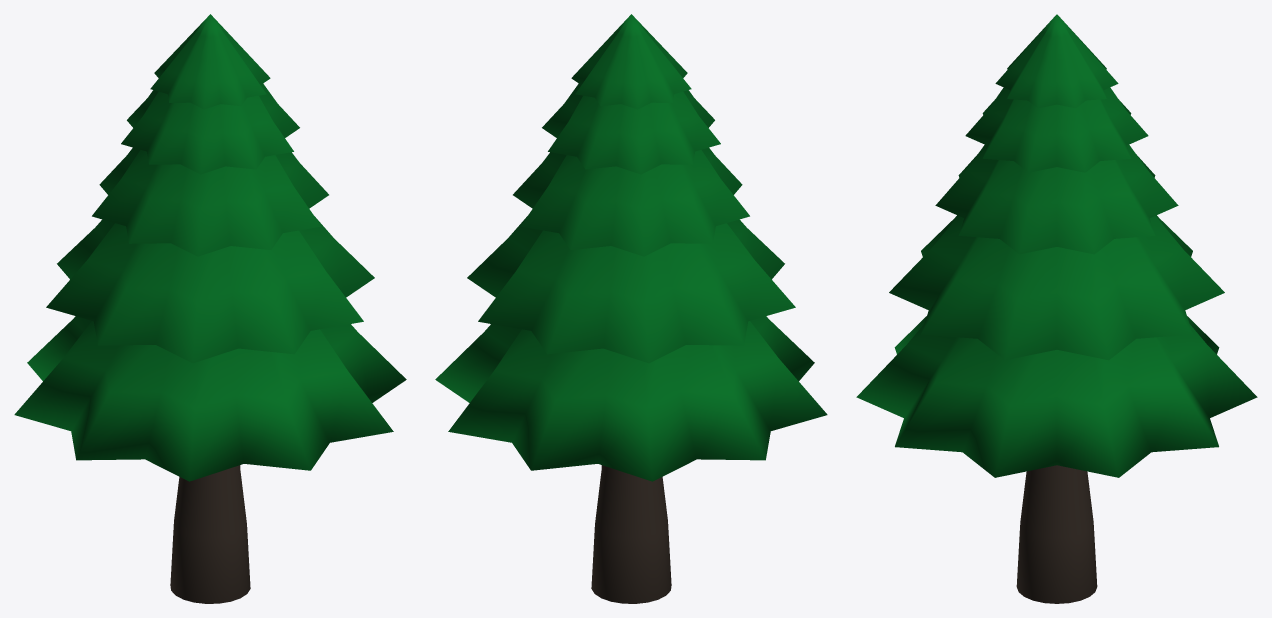
Rendered from Pine4.fbx.
3 views of the same model, side by side, from view 1: azimuth 30°, elevation 25°; view 2: azimuth 150°, elevation 25°; view 3: azimuth 270°, elevation 25° (orthographic).
Parts seen in each view (by area): view 1: Pine4; view 2: Pine4; view 3: Pine4.
Part boxes in pixels (bbox=[...]): Pine4: bbox=[14, 14, 406, 603]; Pine4: bbox=[435, 14, 827, 603]; Pine4: bbox=[856, 14, 1257, 603].
Size of the model in its own units: 6.19 by 10.25 by 6.51.
